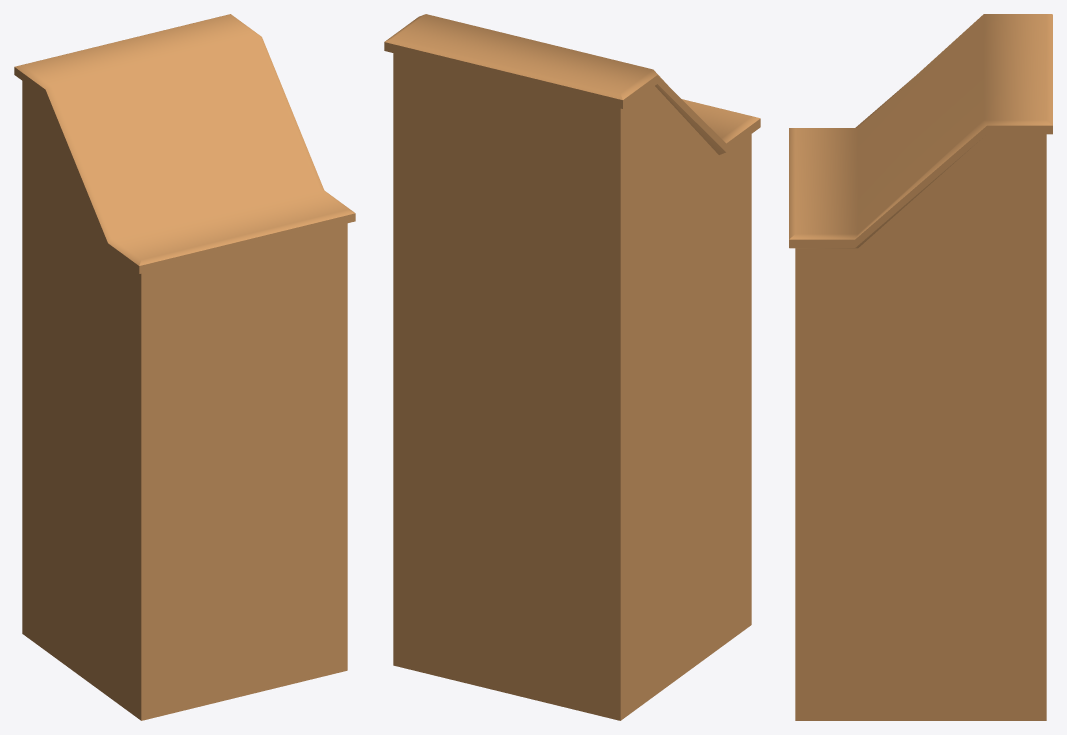
The model's file is Sand 1 R 2.fbx.
The picture shows the model from 3 angles, left to right: view 1: azimuth 30°, elevation 25°; view 2: azimuth 150°, elevation 25°; view 3: azimuth 270°, elevation 25°; orthographic projection. The views are drawn at different scales.
Visible parts, largest first — view 1: Sand_1_R__2; view 2: Sand_1_R__2; view 3: Sand_1_R__2.
Part boxes in pixels (bbox=[...]): Sand_1_R__2: bbox=[14, 14, 355, 720]; Sand_1_R__2: bbox=[384, 14, 760, 720]; Sand_1_R__2: bbox=[789, 14, 1052, 720].
Bounding box in the file's own units: 4.2 × 10.55 × 4.2.
